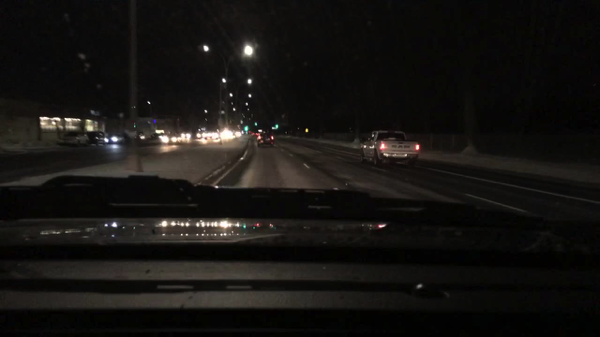car: (57, 131, 89, 149), (255, 130, 276, 147), (87, 130, 109, 146), (159, 133, 182, 144), (110, 134, 125, 144), (180, 130, 193, 141), (195, 130, 206, 139), (206, 129, 215, 140), (248, 129, 257, 138), (215, 130, 225, 138), (225, 128, 234, 136), (234, 129, 240, 137)
traffic light: (253, 118, 258, 127), (245, 124, 250, 132), (275, 120, 280, 128)
traffic sign: (304, 128, 310, 135)
truck: (360, 130, 420, 167)
